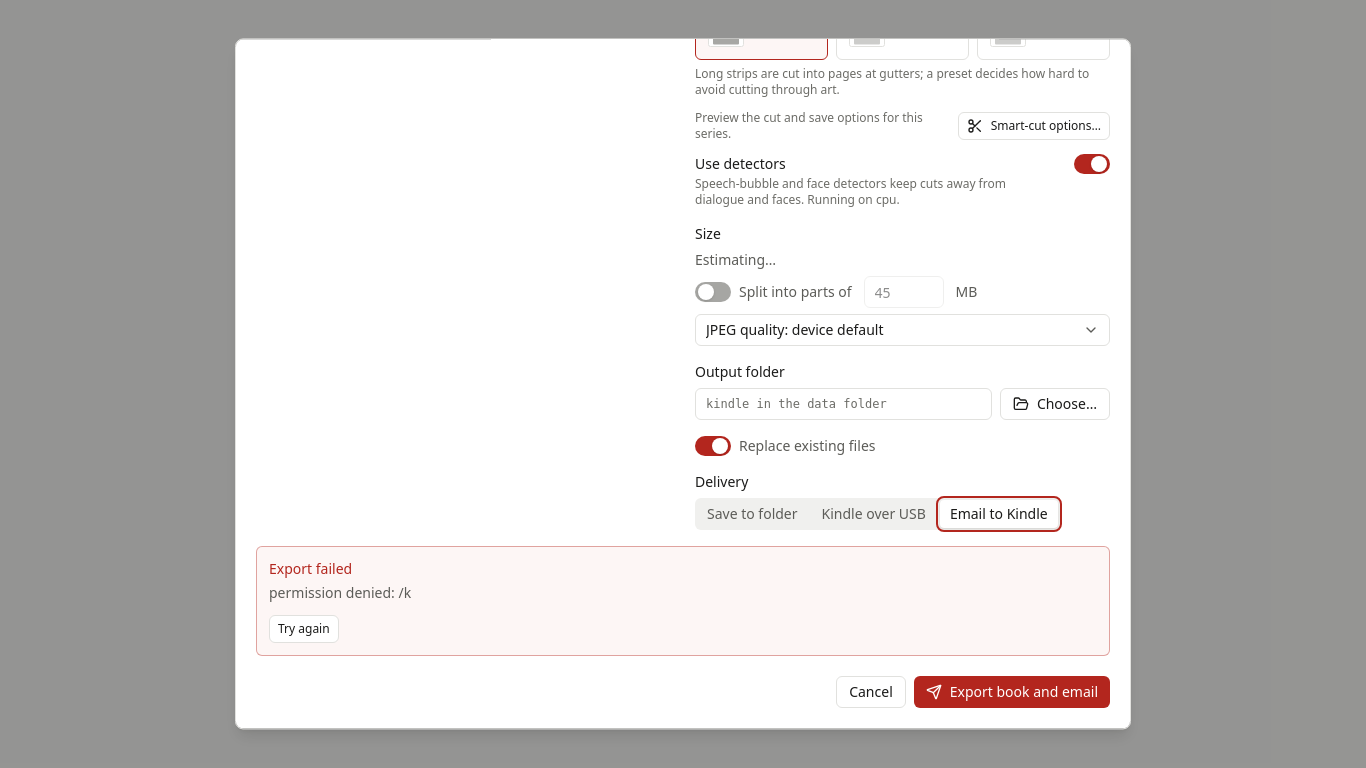
export dialog: Try again after a failed export › delivers the book too when the failed export was going to be emailed
Earlier steps of the test are not shown.
(page scrolled)
Check: the text "permission denied: /k" is shown, box [269,583,411,602]
Click the button "Try again" at (304, 629), box [269,615,339,643]
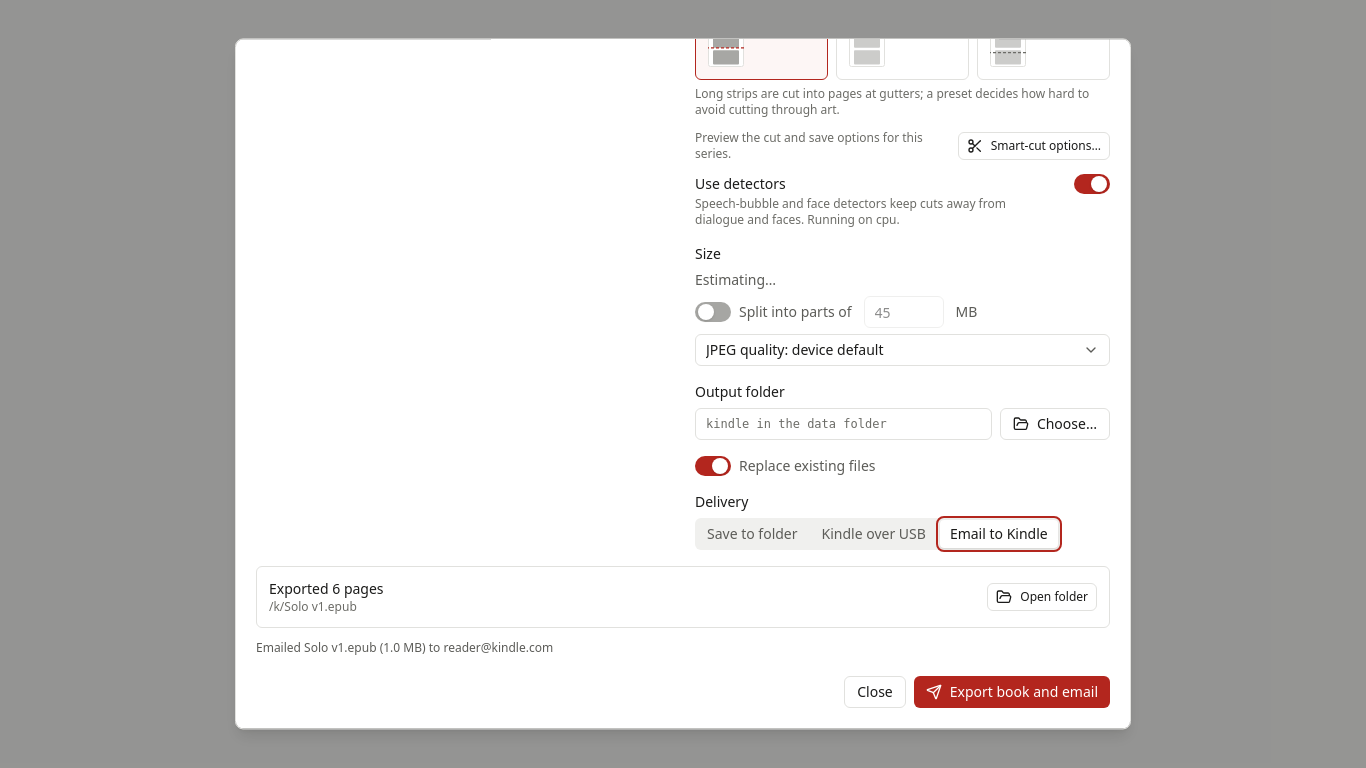
Check: the text "Emailed Solo v1.epub (1.0 MB) to reader@kindle.com" is shown, box [256,639,553,656]
